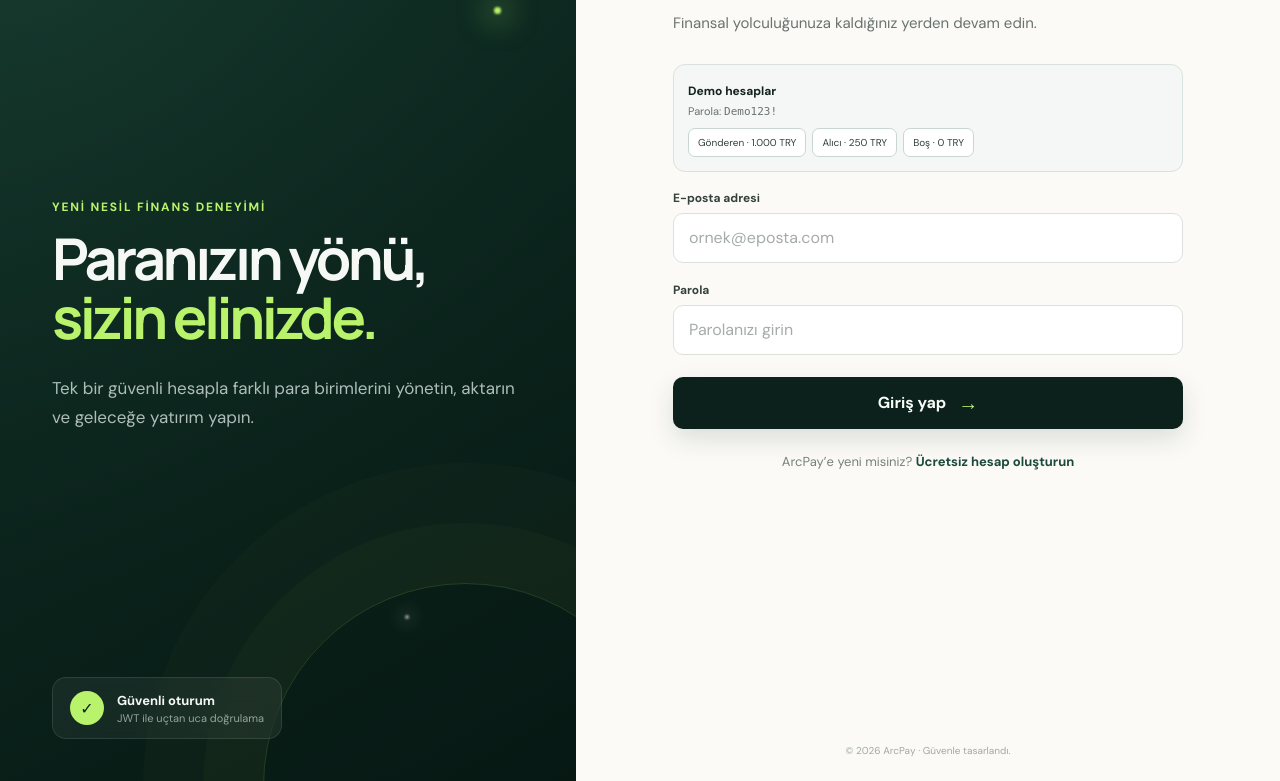
ArcPay authentication flow › logs in and opens the protected account page
The width and height of the screenshot is (1280, 781).
Type "ada@arcpay.test" into the field labelled "E-posta adresi" at (928, 238), box top-left (673, 213), bottom-right (1183, 263)
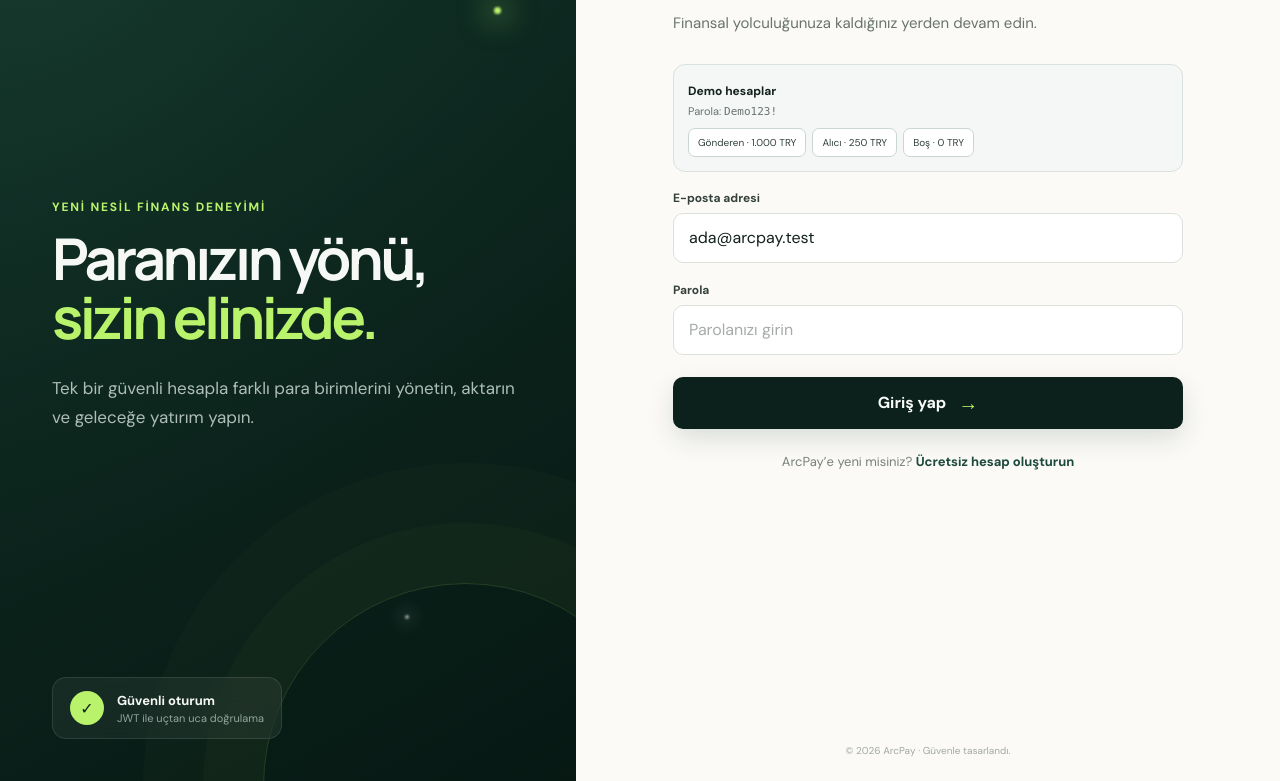
Type "SecurePass1" into the password field labelled "Parola" at (928, 330), box top-left (673, 305), bottom-right (1183, 355)
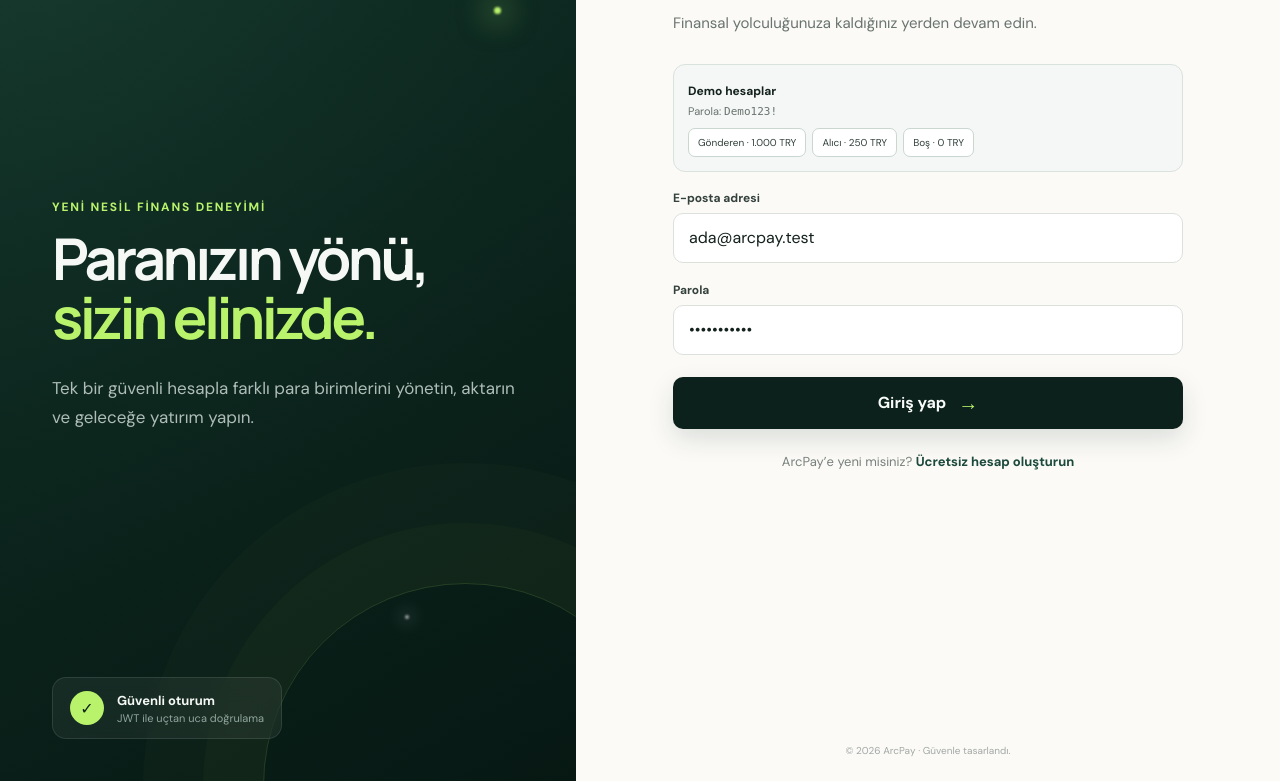
Click the button "Giriş yap →" at (928, 403), box top-left (673, 377), bottom-right (1183, 429)
(page scrolled)
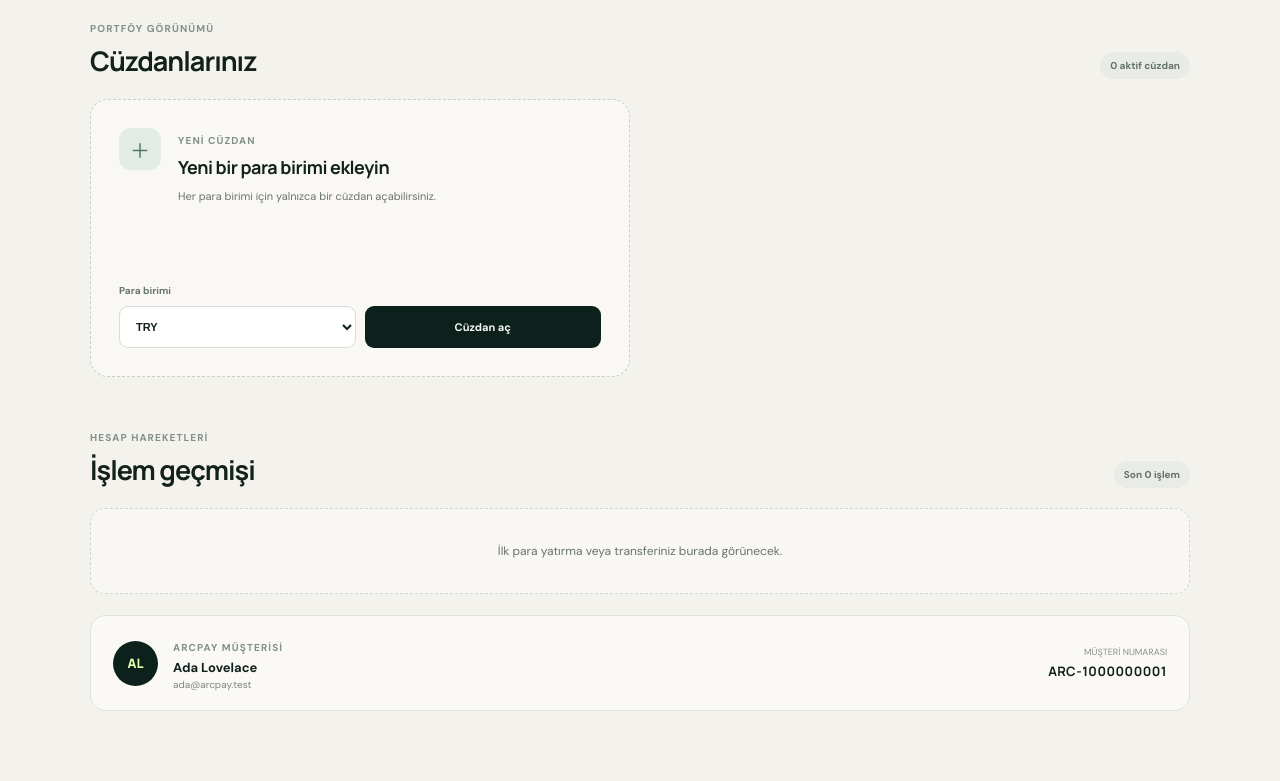
Expected: the text "ARC-1000000001" is shown, top-left (1048, 662), bottom-right (1167, 680)
